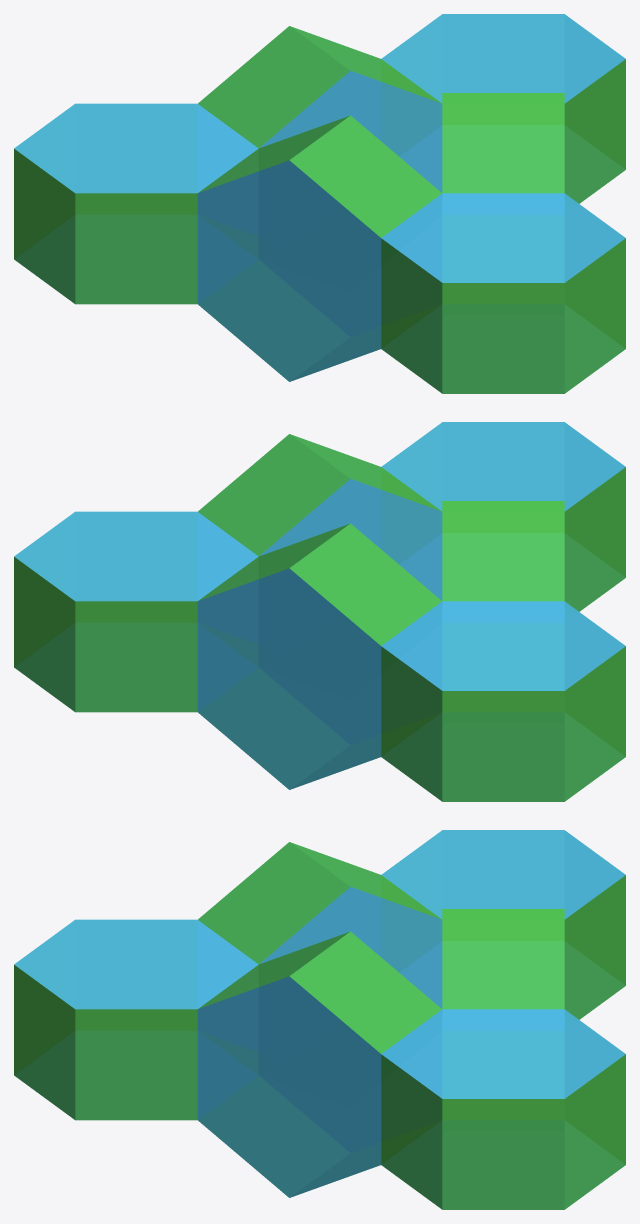
The model's file is RingHexagonalPrisms.obj.
3 views of the same model, one above another, from view 1: azimuth 30°, elevation 25°; view 2: azimuth 150°, elevation 25°; view 3: azimuth 270°, elevation 25° (orthographic).
Size of the model in its own units: 20.78 by 8 by 20.
